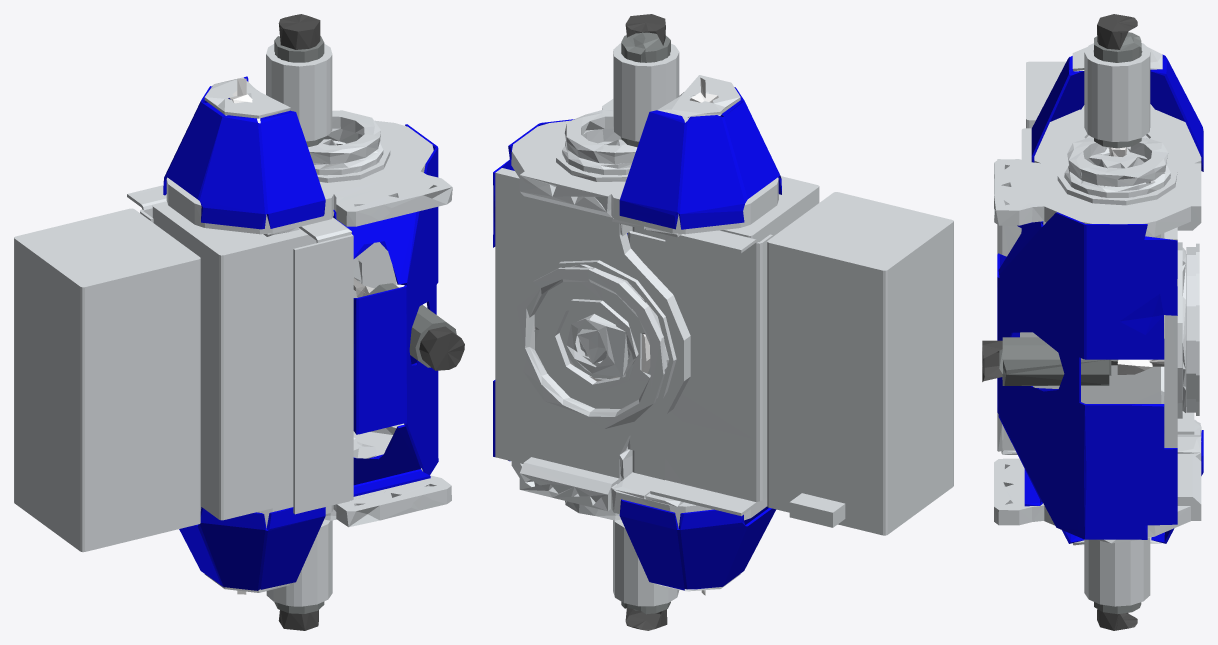
Rendered from CHEST_LINK2_mesh.dae.
3 renders of one model, left to right at view 1: azimuth 30°, elevation 25°; view 2: azimuth 150°, elevation 25°; view 3: azimuth 270°, elevation 25°, orthographic.
Visible parts, largest first — view 1: CHEST_LINK2 (×15); view 2: CHEST_LINK2 (×13); view 3: CHEST_LINK2 (×18).
Boxes of the visible parts, box(x1,y1,x2,y2) form: CHEST_LINK2 (×15): box(14, 14, 464, 630); CHEST_LINK2 (×13): box(493, 14, 953, 630); CHEST_LINK2 (×18): box(982, 14, 1203, 630).
Size of the model in its own units: 0.267 by 0.3962 by 0.1326.
